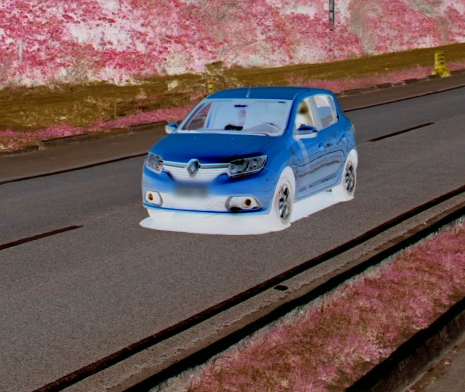car: (138, 83, 360, 227)
